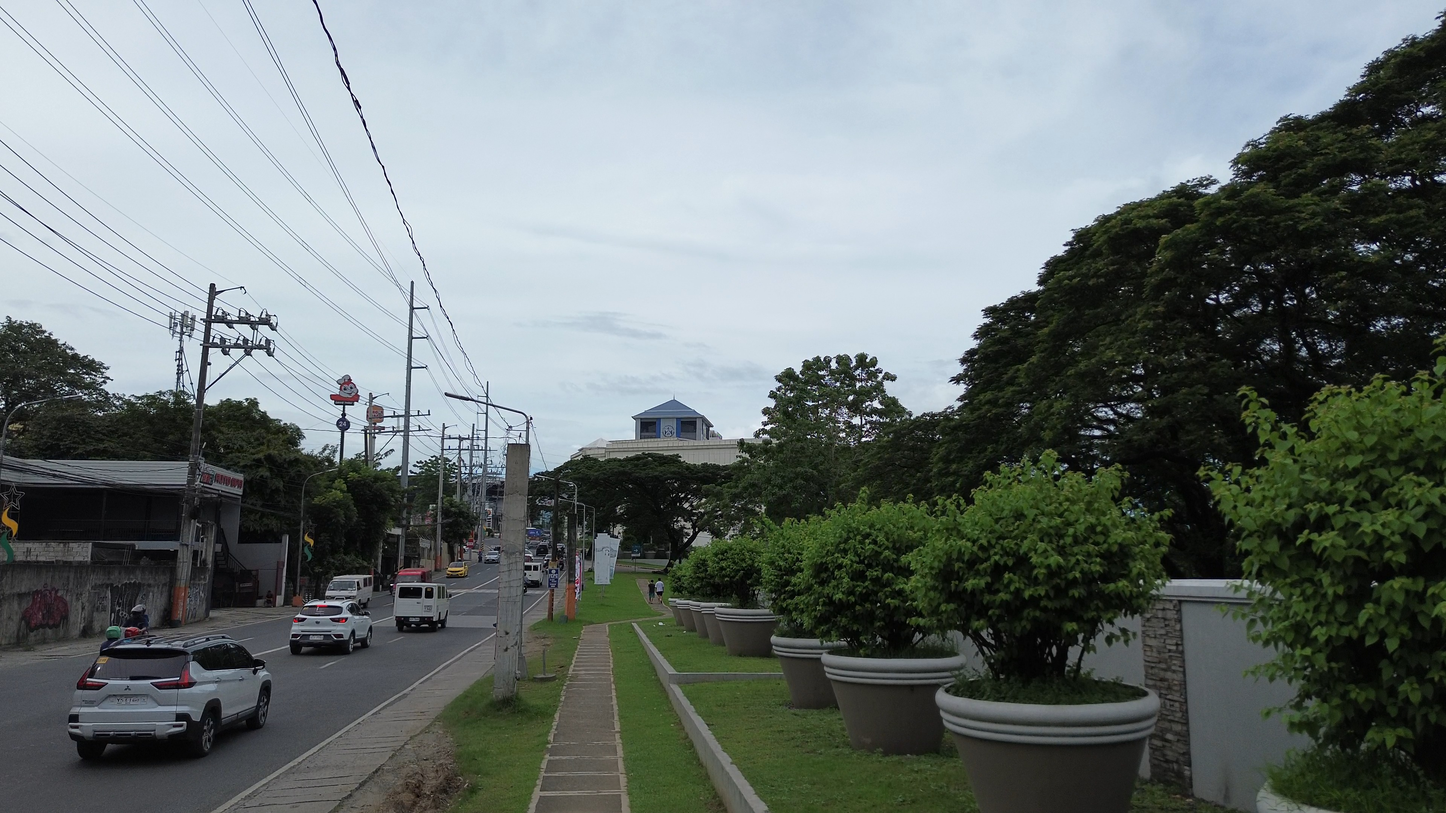vehicle: (68, 634, 271, 759), (290, 600, 372, 654), (393, 583, 449, 631), (325, 574, 373, 608), (393, 568, 433, 596), (523, 562, 542, 587), (446, 560, 470, 578), (483, 546, 501, 563)
